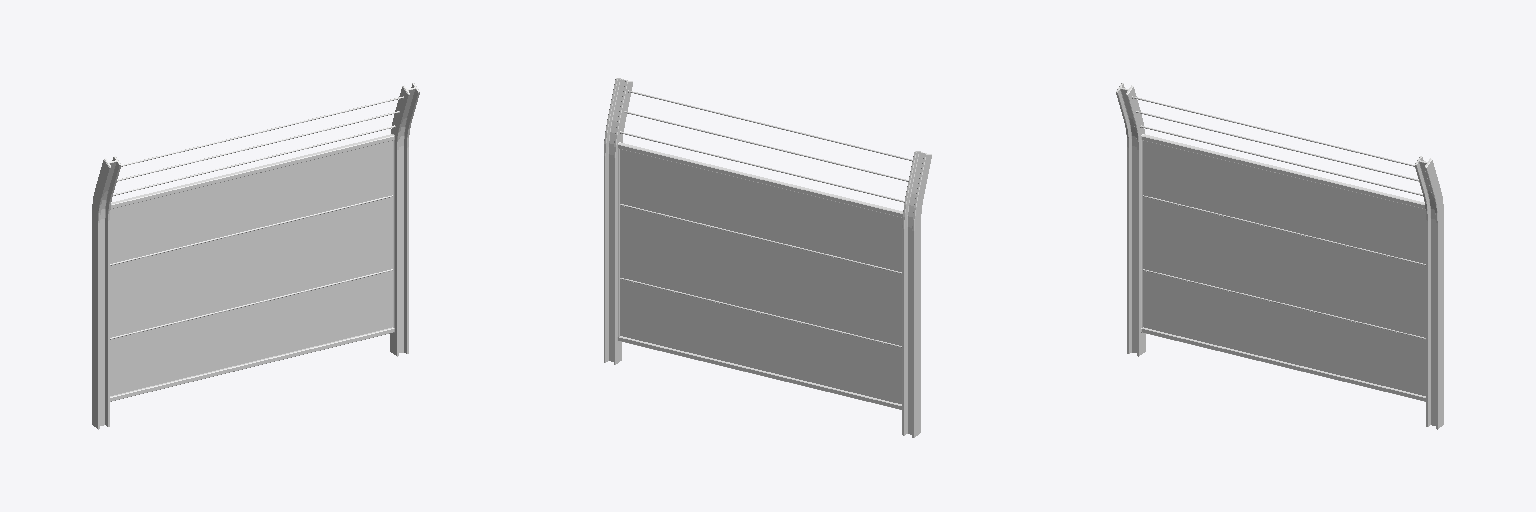
Rendered from MetalFence.obj.
3 renders of one model, left to right at view 1: azimuth 30°, elevation 25°; view 2: azimuth 150°, elevation 25°; view 3: azimuth 330°, elevation 25°, orthographic.
Parts seen in each view (by area): view 1: MetalFence.obj; view 2: MetalFence.obj; view 3: MetalFence.obj.
Part boxes in pixels (x1,y1,x2,y2): MetalFence.obj: (92,83,419,429); MetalFence.obj: (604,78,931,437); MetalFence.obj: (1116,83,1443,429).
Size of the model in its own units: 2.44 by 2.06 by 0.2464.